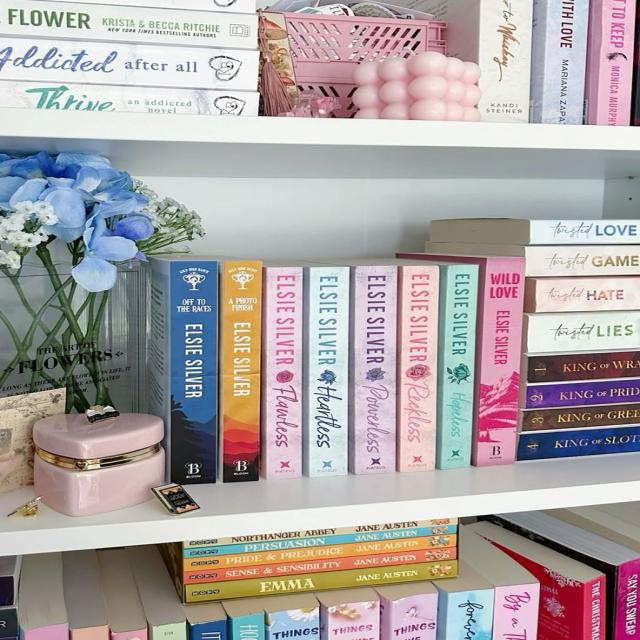book: (398, 253, 523, 466), (0, 36, 258, 89), (0, 0, 256, 49), (186, 560, 458, 602), (184, 534, 456, 572), (184, 547, 456, 584), (303, 267, 350, 477), (350, 265, 397, 474), (222, 261, 263, 482), (0, 81, 258, 116), (184, 525, 456, 558), (260, 267, 302, 479), (173, 262, 213, 483), (396, 266, 438, 471), (436, 264, 478, 469), (185, 518, 459, 549), (529, 0, 589, 124), (585, 0, 634, 126), (480, 0, 528, 121), (517, 426, 639, 460), (526, 351, 639, 383), (529, 316, 640, 348), (525, 379, 639, 409), (522, 403, 639, 431), (526, 248, 640, 275), (536, 280, 640, 309), (529, 220, 640, 243)
candle: (351, 52, 480, 120)
flowers: (0, 151, 203, 292)
